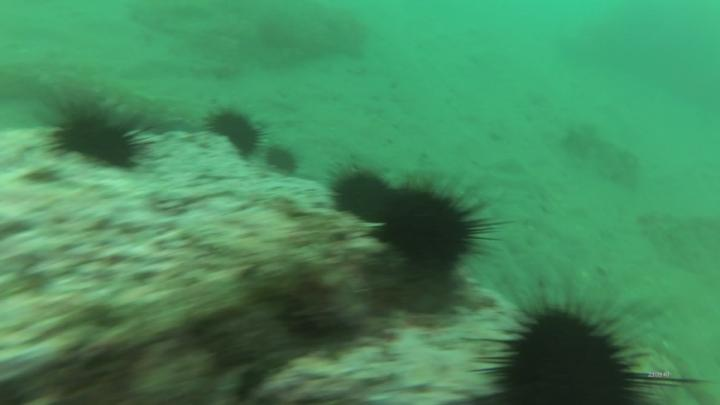echinus: (482, 301, 642, 405), (374, 180, 475, 286), (51, 101, 141, 176), (328, 158, 398, 225), (203, 107, 260, 163), (268, 144, 298, 177)
